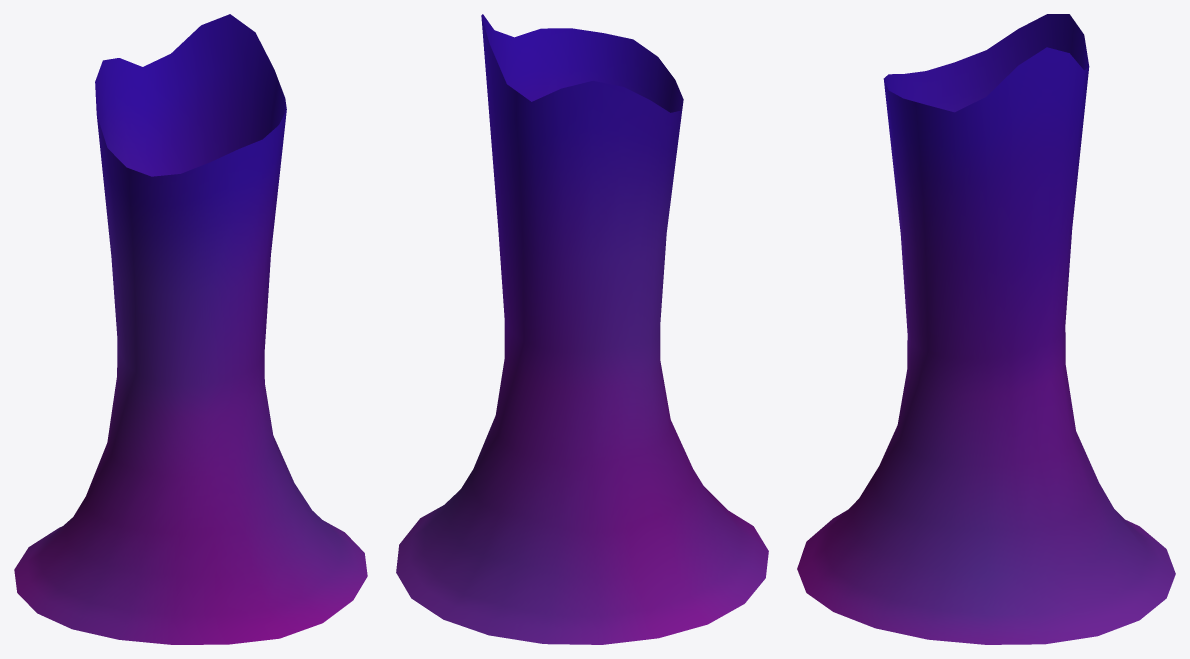
Rendered from FireColumn_01.fbx.
3 views of the same model, side by side, from view 1: azimuth 30°, elevation 25°; view 2: azimuth 150°, elevation 25°; view 3: azimuth 270°, elevation 25° (orthographic). The views are drawn at different scales.
Parts seen in each view (by area): view 1: pCylinder1; view 2: pCylinder1; view 3: pCylinder1.
Part boxes in pixels (bbox=[...]): pCylinder1: bbox=[14, 14, 367, 644]; pCylinder1: bbox=[396, 14, 768, 644]; pCylinder1: bbox=[797, 14, 1175, 644].
Size of the model in its own units: 2.55 by 4.18 by 2.55.
